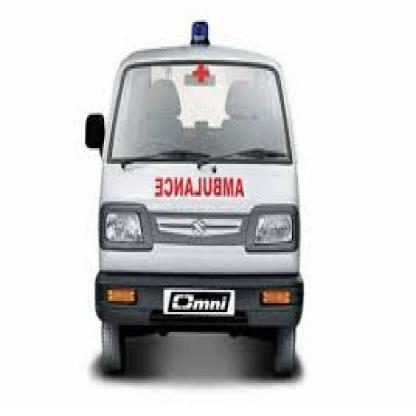priority: (81, 23, 314, 383)
